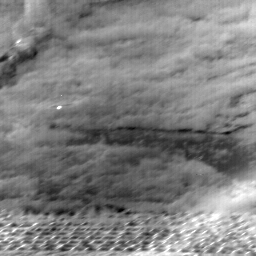aircraft: (58, 106, 60, 108)
